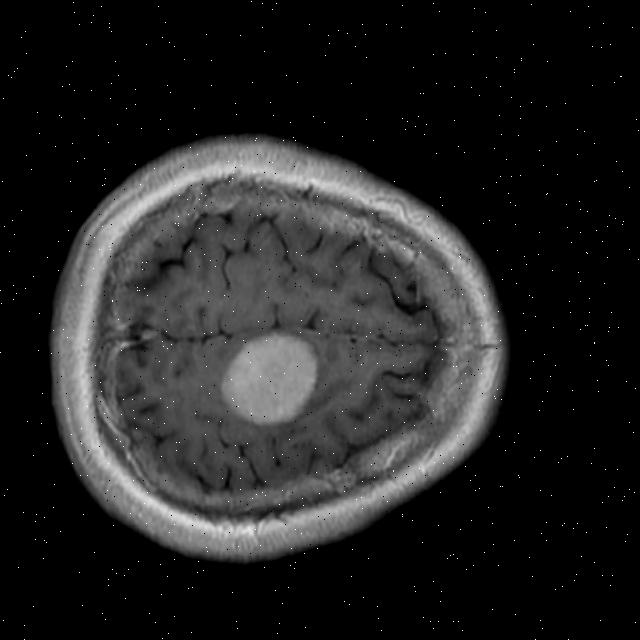Meningioma: (217, 326, 324, 428)
